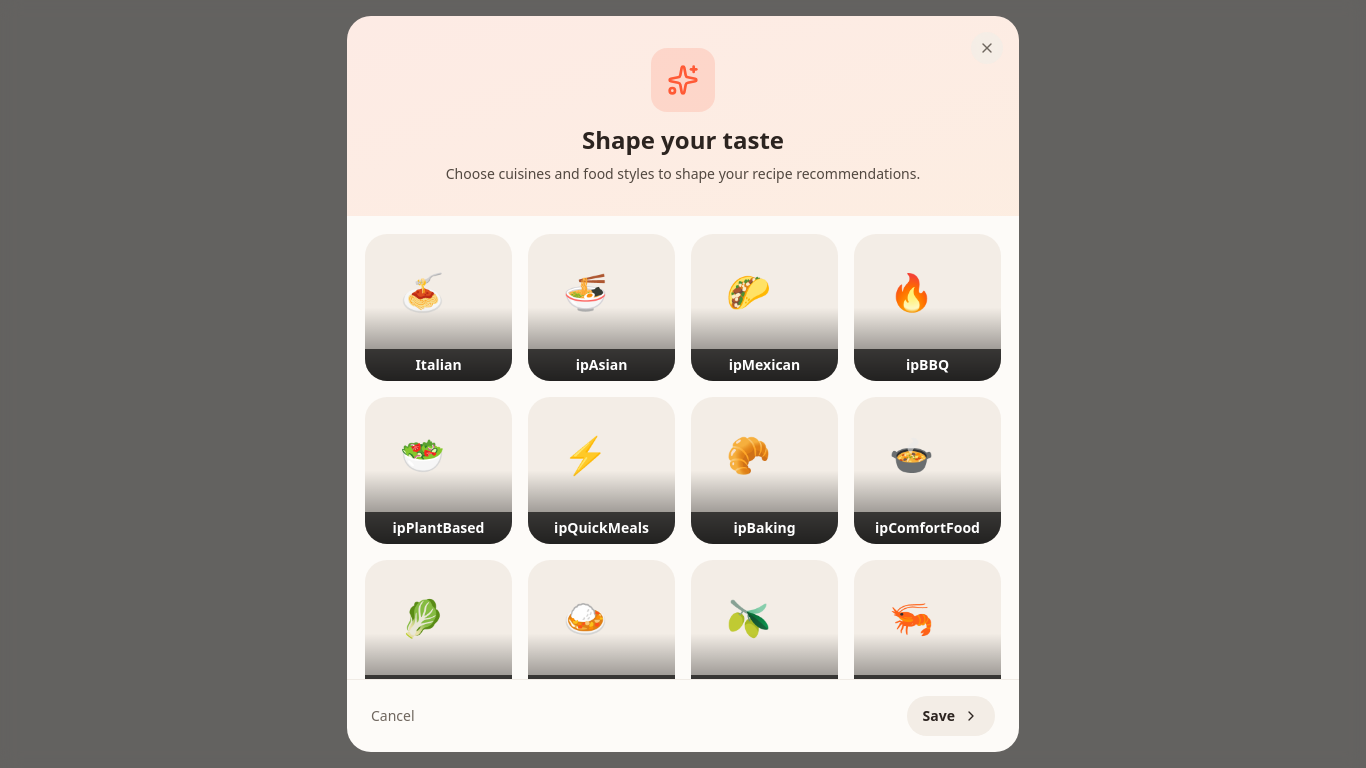
Test case: content-first onboarding contract › uses color only for selection and exposes the pressed state
Click the button "🍝 Italian".
click(438, 308)  # box [363,232,514,383]
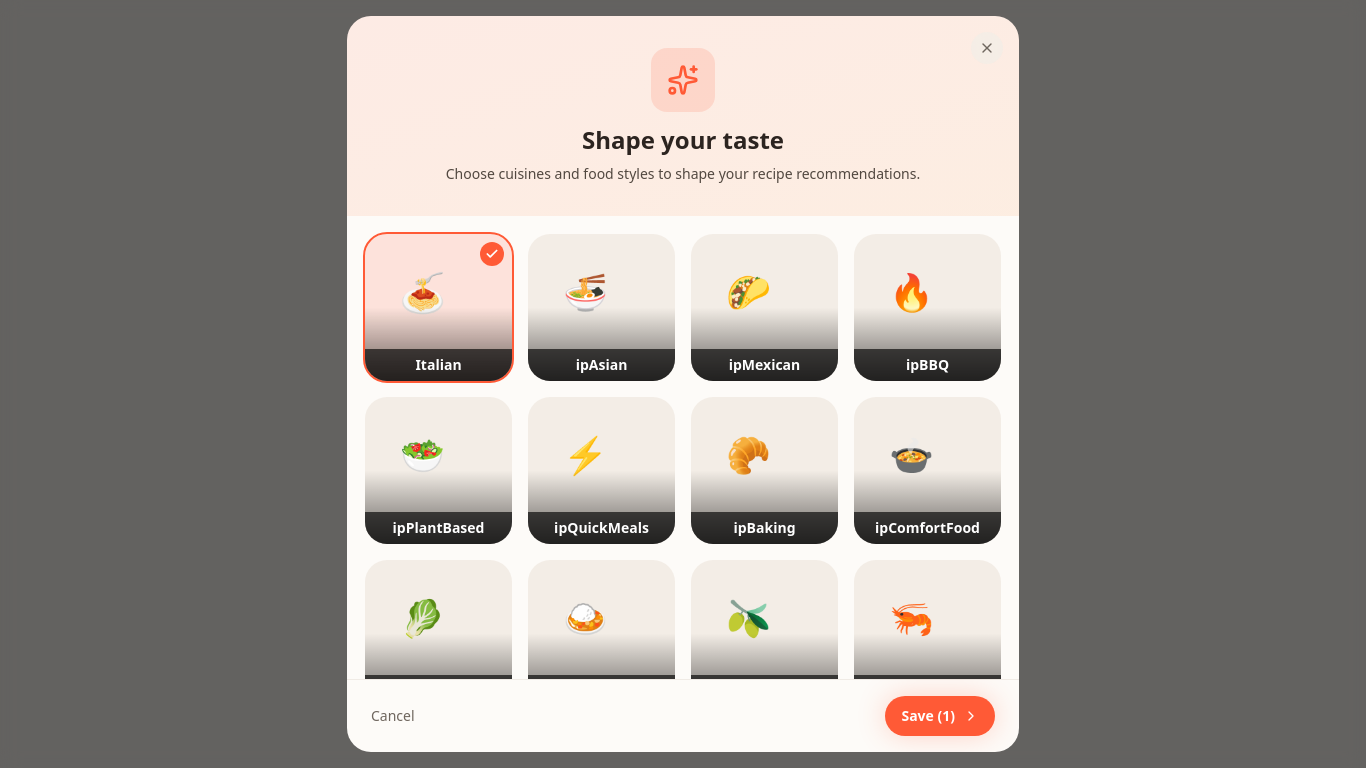
Expected: the button "Save (1)" is shown, [885,696,995,736]
